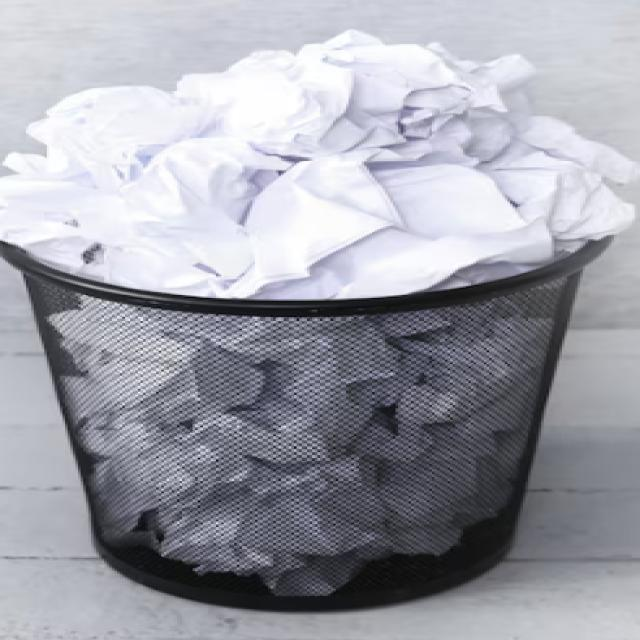KertasBekas: (0, 28, 635, 600), (0, 28, 637, 298)
